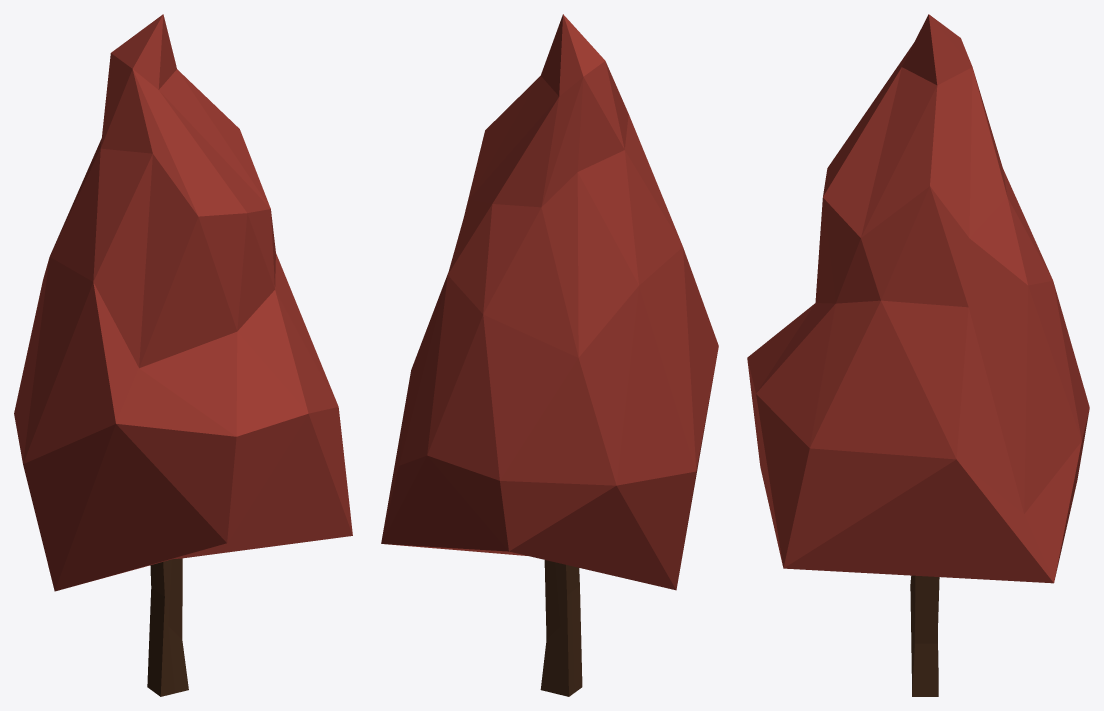
Rendered from Tree_16_Red.fbx.
The picture shows the model from 3 angles, left to right: view 1: azimuth 30°, elevation 25°; view 2: azimuth 150°, elevation 25°; view 3: azimuth 270°, elevation 25°; orthographic projection.
Visible parts, largest first — view 1: Tree_16_Red_Part_1, Tree_16_Red_Part_2; view 2: Tree_16_Red_Part_1, Tree_16_Red_Part_2; view 3: Tree_16_Red_Part_1, Tree_16_Red_Part_2.
Part boxes in pixels (bbox=[...]): Tree_16_Red_Part_1: bbox=[14, 14, 352, 591]; Tree_16_Red_Part_2: bbox=[147, 558, 188, 696]; Tree_16_Red_Part_1: bbox=[381, 14, 718, 590]; Tree_16_Red_Part_2: bbox=[540, 560, 582, 696]; Tree_16_Red_Part_1: bbox=[747, 14, 1089, 583]; Tree_16_Red_Part_2: bbox=[910, 575, 939, 696].
Size of the model in its own units: 339 by 797 by 367.
